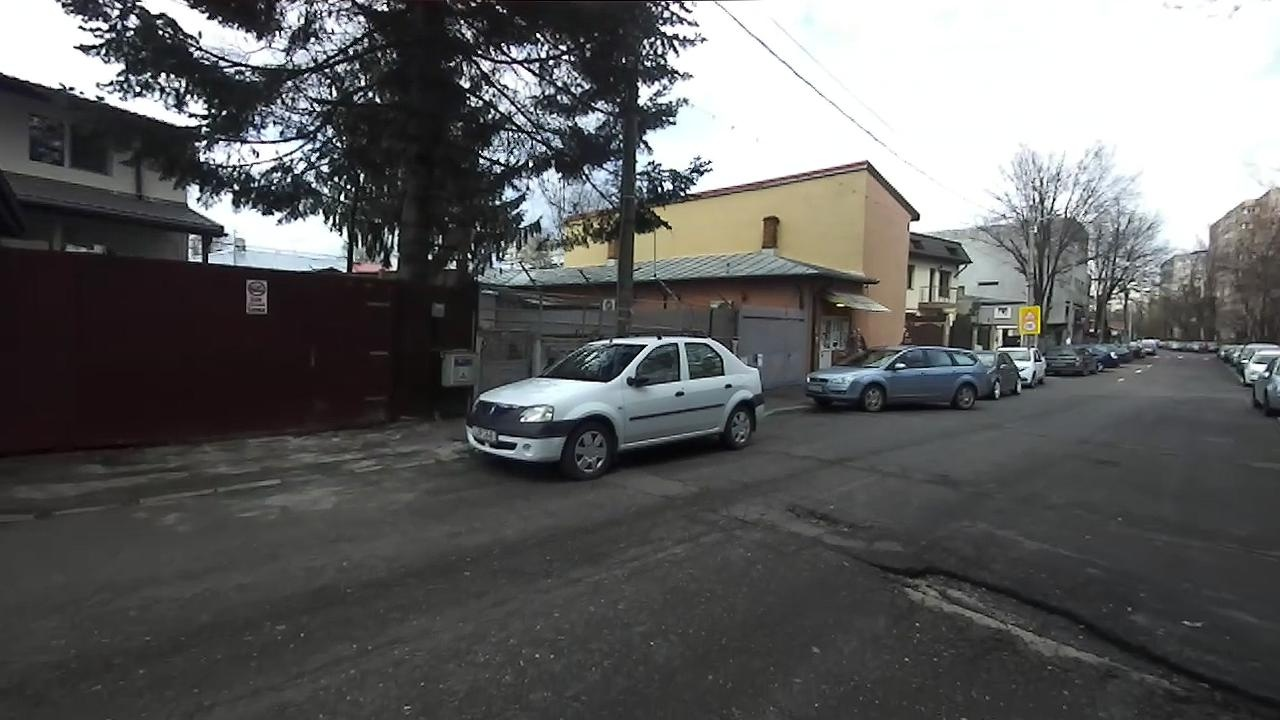pothole: (845, 550, 1278, 717), (777, 498, 877, 535)
